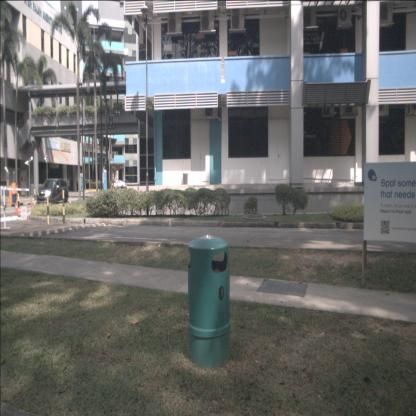cone: (14, 200, 19, 216), (30, 195, 32, 210)
